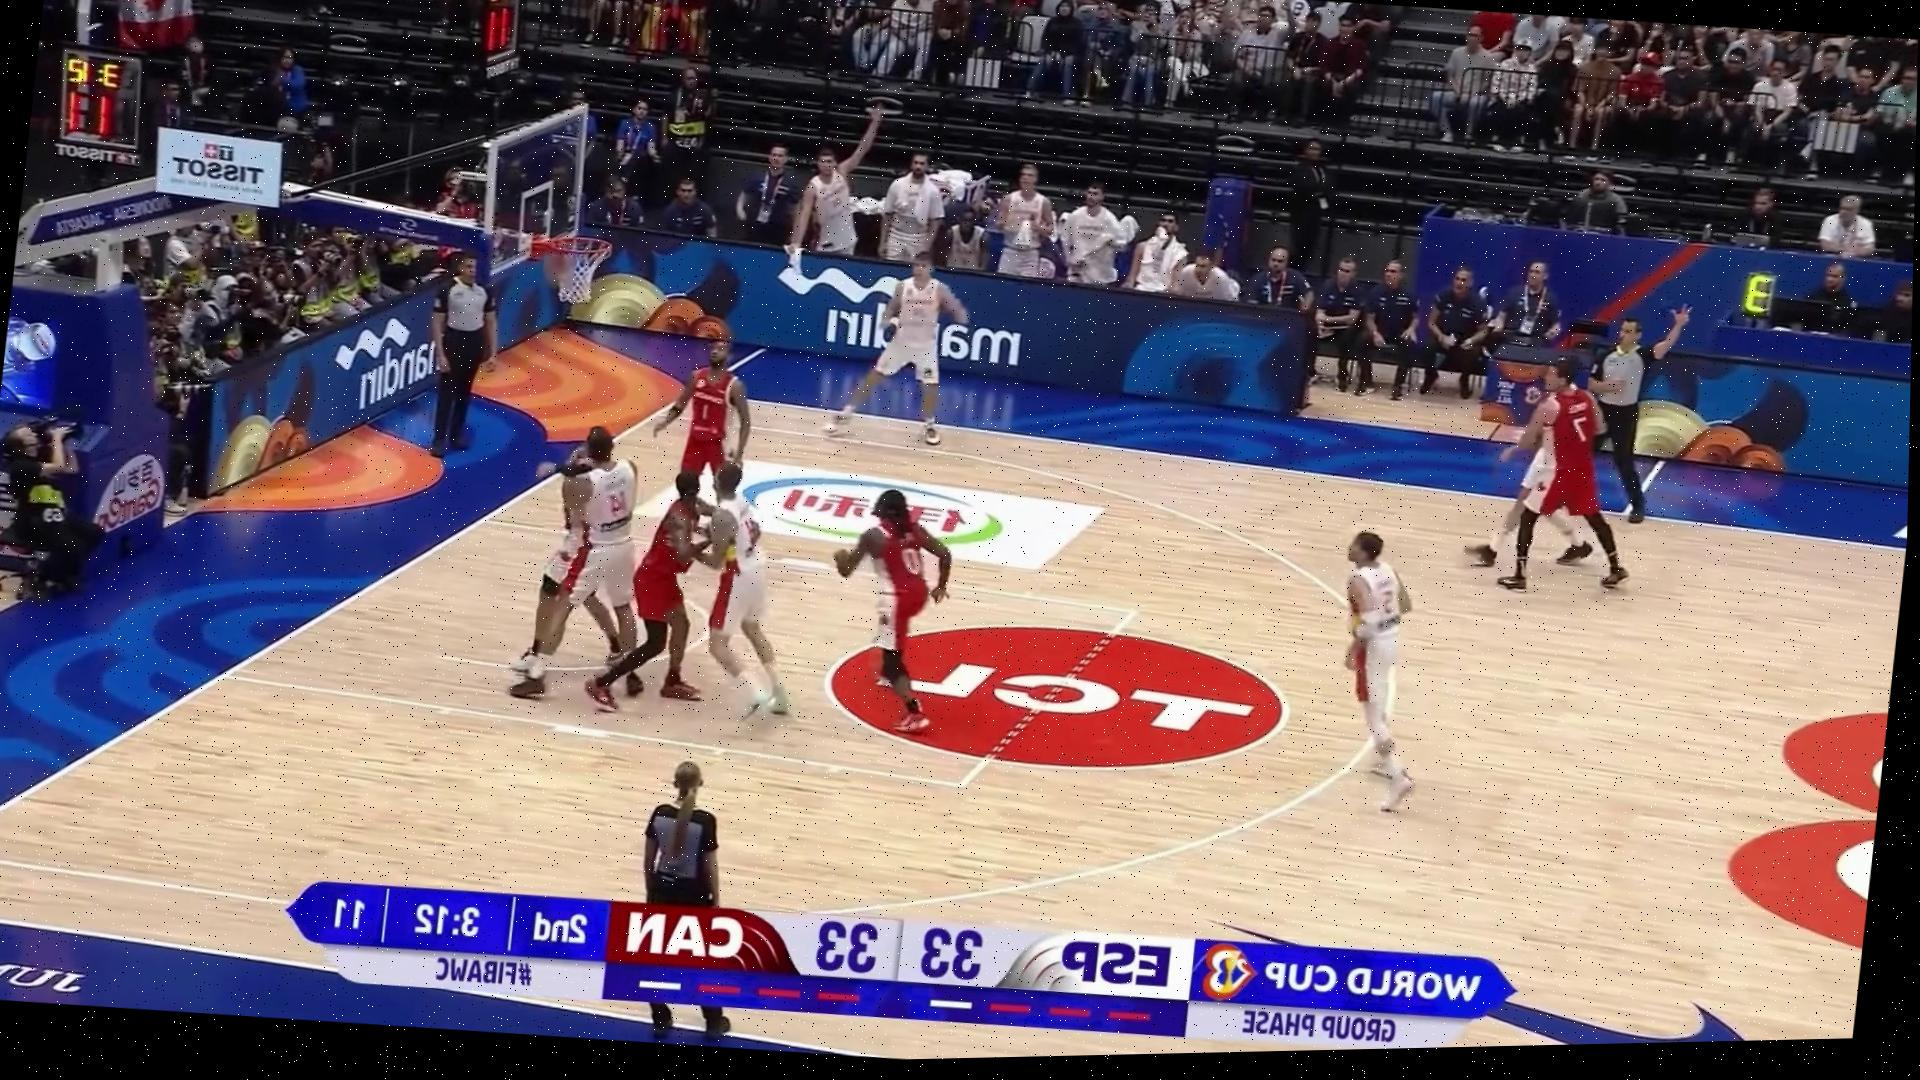foul: (616, 426, 804, 735), (510, 407, 671, 712)
no_foul: (1469, 334, 1636, 603)
